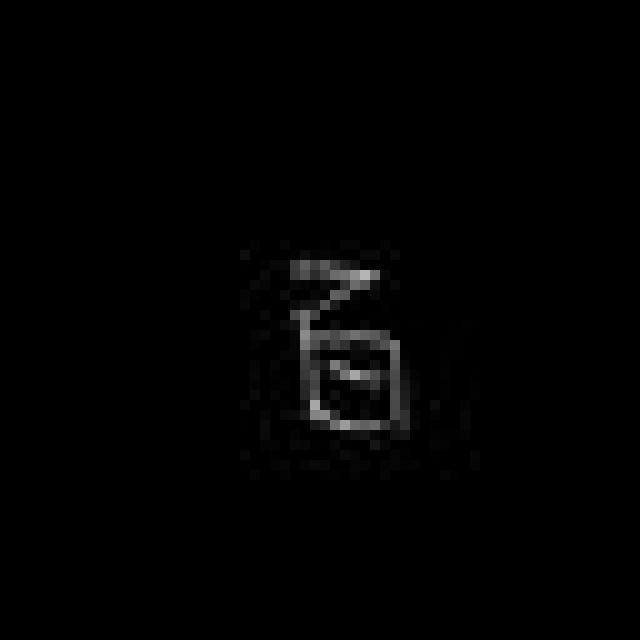100 -a hundred-: (271, 245, 416, 455)
